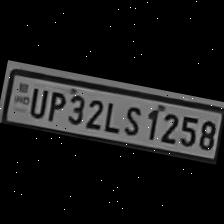1: (139, 104, 162, 141)
2: (156, 106, 182, 144), (81, 93, 107, 130)
3: (62, 89, 89, 126)
5: (174, 110, 200, 147)
8: (194, 114, 220, 150)
L: (99, 96, 124, 132)
P: (43, 86, 68, 122)
S: (118, 100, 146, 138)
U: (24, 82, 50, 119)
